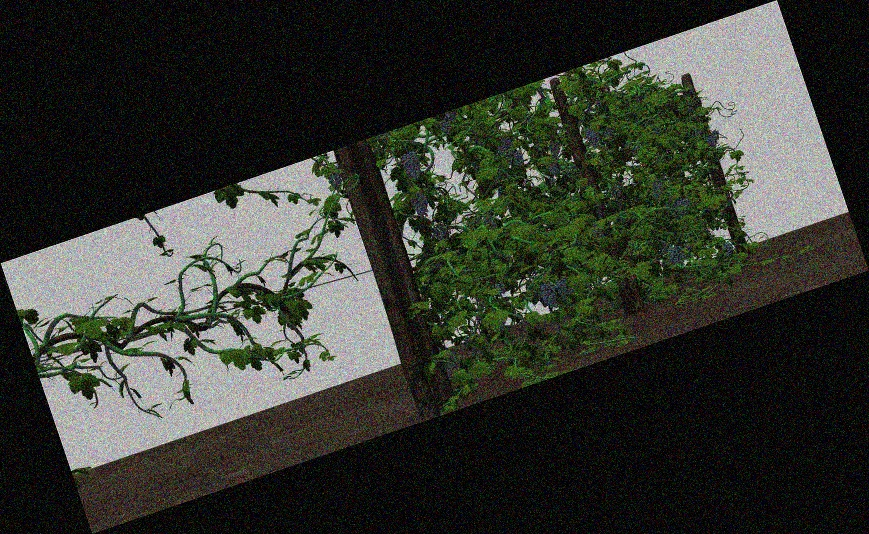grape: (403, 151, 421, 181), (411, 189, 429, 218), (559, 276, 575, 307), (541, 282, 557, 309), (498, 139, 514, 161), (445, 352, 460, 375), (327, 167, 342, 189), (649, 181, 664, 200), (587, 127, 600, 148), (670, 247, 684, 266), (548, 158, 561, 177), (548, 139, 562, 156), (512, 151, 524, 168), (722, 242, 734, 257), (440, 120, 452, 134), (707, 136, 716, 148), (711, 130, 720, 140)
